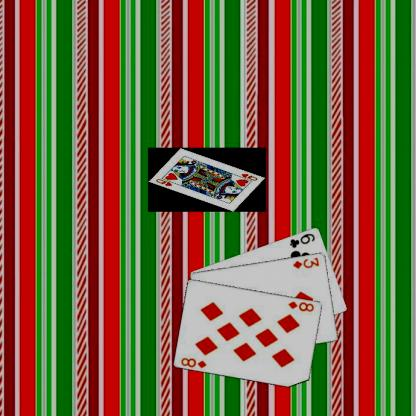3D: (291, 254, 320, 270)
6C: (287, 231, 316, 249)
8D: (286, 298, 315, 313), (178, 355, 208, 369)
